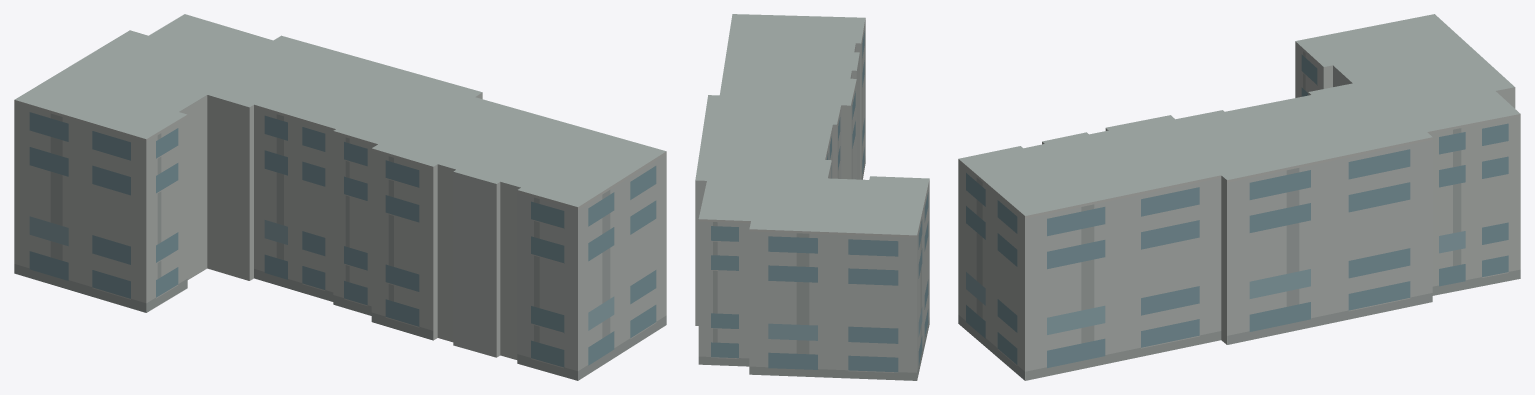
Rendered from residential-9799eceb-a831-4655-b04b-755ad5e88b0b.glb.
3 renders of one model, left to right at view 1: azimuth 30°, elevation 25°; view 2: azimuth 150°, elevation 25°; view 3: azimuth 270°, elevation 25°, orthographic. The views are drawn at different scales.
Parts seen in each view (by area): view 1: residential-9799eceb-a831-4655-b04b-755ad5e88b0b.tmp; view 2: residential-9799eceb-a831-4655-b04b-755ad5e88b0b.tmp; view 3: residential-9799eceb-a831-4655-b04b-755ad5e88b0b.tmp.
Boxes of the visible parts, <box> form: residential-9799eceb-a831-4655-b04b-755ad5e88b0b.tmp: <box>14,14,666,380</box>; residential-9799eceb-a831-4655-b04b-755ad5e88b0b.tmp: <box>695,14,929,380</box>; residential-9799eceb-a831-4655-b04b-755ad5e88b0b.tmp: <box>958,14,1520,380</box>.
Bounding box in the file's own units: 40.09 × 15.25 × 47.14.
